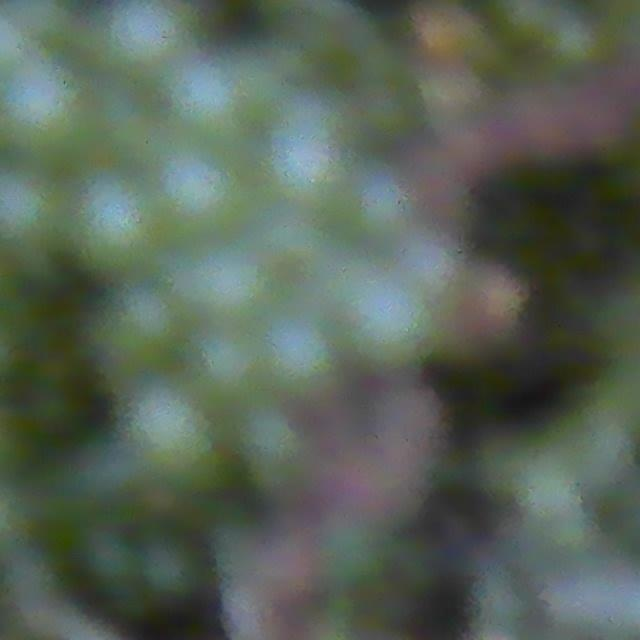SeaGrape: (0, 61, 92, 165), (341, 277, 434, 375), (179, 240, 273, 328), (100, 0, 199, 82), (257, 109, 348, 198), (71, 184, 160, 274), (159, 58, 245, 148), (99, 287, 182, 380), (125, 387, 206, 478), (179, 328, 269, 409), (155, 159, 240, 243), (232, 403, 310, 487), (258, 323, 337, 404), (0, 177, 64, 259), (341, 176, 413, 246), (394, 241, 465, 311), (135, 535, 204, 601)
